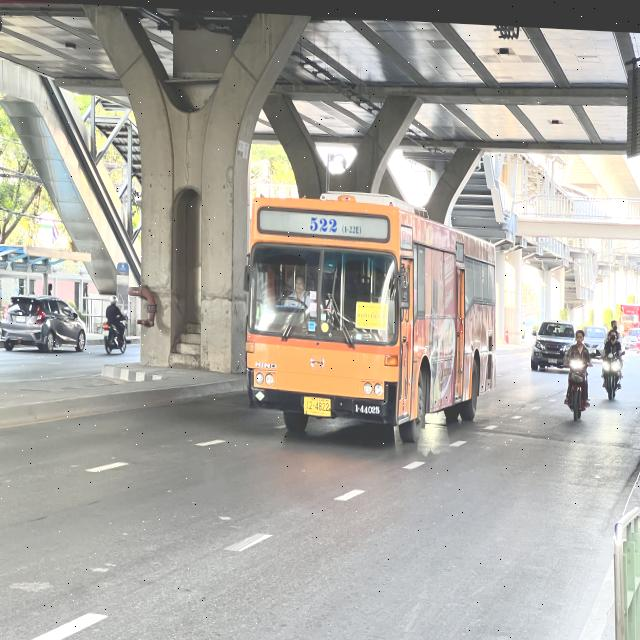BMTA-bus: (245, 191, 497, 445)
Bus Line Number: (306, 208, 363, 234)
Bus Side Number: (353, 398, 381, 413)
Destination Sign: (354, 297, 388, 327)
